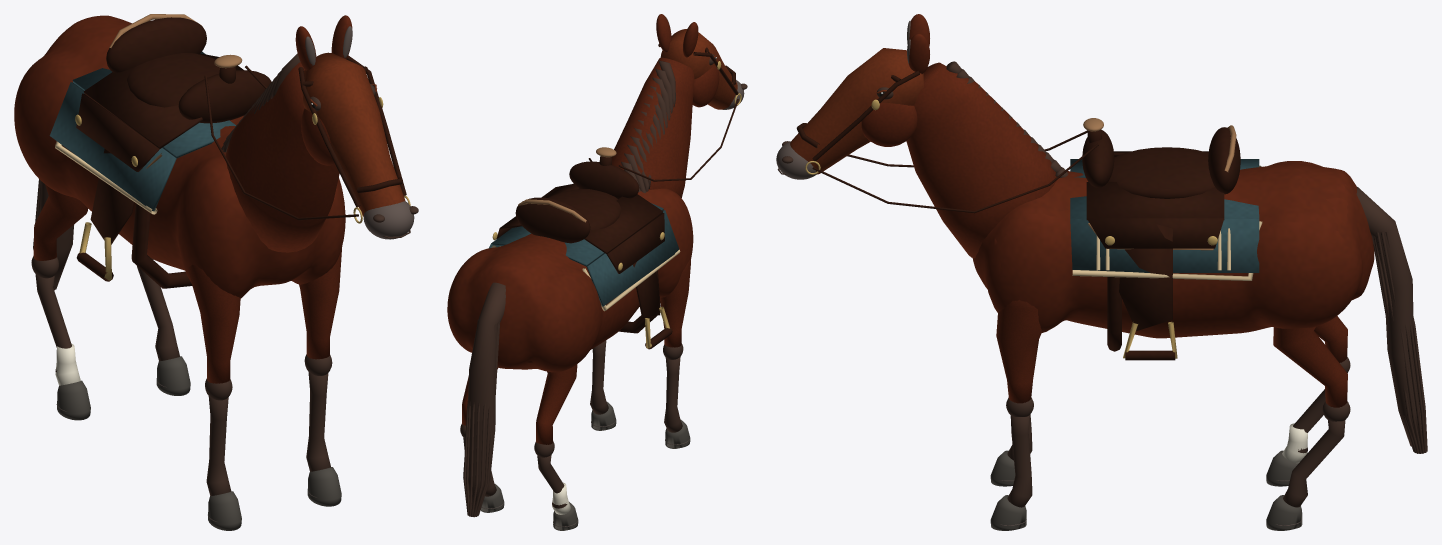
File: Horse.fbx
3 renders of one model, left to right at view 1: azimuth 30°, elevation 25°; view 2: azimuth 150°, elevation 25°; view 3: azimuth 270°, elevation 25°, orthographic. The views are drawn at different scales.
Visible parts, largest first — view 1: BodyMesh, HeadMesh, NeckMesh, FrontLegLMesh, HindKneeLMesh, FrontLegRMesh, FrontKneeRMesh, FrontKneeLMesh, HindKneeRMesh, HindLegLMesh, TailMesh, ReinsMesh; view 2: BodyMesh, NeckMesh, TailMesh, HeadMesh, HindLegLMesh, FrontLegLMesh, FrontKneeLMesh, FrontKneeRMesh, HindKneeLMesh, HindKneeRMesh, ReinsMesh; view 3: BodyMesh, NeckMesh, HeadMesh, TailMesh, FrontLegRMesh, HindLegRMesh, HindKneeRMesh, FrontKneeRMesh, HindKneeLMesh, ReinsMesh, HindLegLMesh, FrontKneeLMesh.
Part boxes in pixels (bbox=[...]): BodyMesh: bbox=[14, 14, 345, 298]; HeadMesh: bbox=[295, 15, 418, 239]; NeckMesh: bbox=[221, 53, 339, 252]; FrontLegLMesh: bbox=[188, 264, 240, 400]; HindKneeLMesh: bbox=[35, 274, 90, 420]; FrontLegRMesh: bbox=[299, 246, 342, 375]; FrontKneeRMesh: bbox=[306, 372, 341, 506]; FrontKneeLMesh: bbox=[206, 396, 241, 530]; HindKneeRMesh: bbox=[137, 258, 190, 395]; HindLegLMesh: bbox=[31, 184, 88, 278]; TailMesh: bbox=[33, 179, 74, 290]; ReinsMesh: bbox=[204, 65, 358, 220]; BodyMesh: bbox=[447, 147, 693, 372]; NeckMesh: bbox=[611, 57, 694, 197]; TailMesh: bbox=[463, 282, 505, 517]; HeadMesh: bbox=[656, 14, 747, 109]; HindLegLMesh: bbox=[534, 364, 577, 457]; FrontLegLMesh: bbox=[660, 259, 690, 359]; FrontKneeLMesh: bbox=[664, 357, 690, 448]; FrontKneeRMesh: bbox=[590, 340, 616, 430]; HindKneeLMesh: bbox=[537, 455, 578, 530]; HindKneeRMesh: bbox=[463, 437, 504, 512]; ReinsMesh: bbox=[588, 99, 738, 181]; BodyMesh: bbox=[972, 118, 1374, 360]; NeckMesh: bbox=[906, 61, 1068, 258]; HeadMesh: bbox=[776, 14, 929, 179]; TailMesh: bbox=[1356, 187, 1427, 453]; FrontLegRMesh: bbox=[996, 300, 1041, 416]; HindLegRMesh: bbox=[1273, 327, 1350, 421]; HindKneeRMesh: bbox=[1266, 420, 1345, 530]; FrontKneeRMesh: bbox=[990, 415, 1032, 530]; HindKneeLMesh: bbox=[1266, 389, 1325, 486]; ReinsMesh: bbox=[812, 130, 1098, 213]; HindLegLMesh: bbox=[1314, 316, 1350, 372]; FrontKneeLMesh: bbox=[990, 414, 1032, 486].
Size of the model in its own units: 96.4 by 227 by 279.
Materials: 13 (4 with a texture image).
